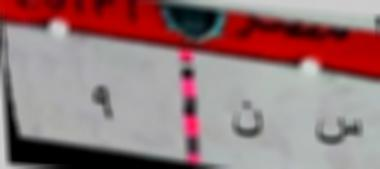9: (86, 81, 119, 125)
noon: (227, 100, 267, 144)
seen: (310, 102, 370, 150)
